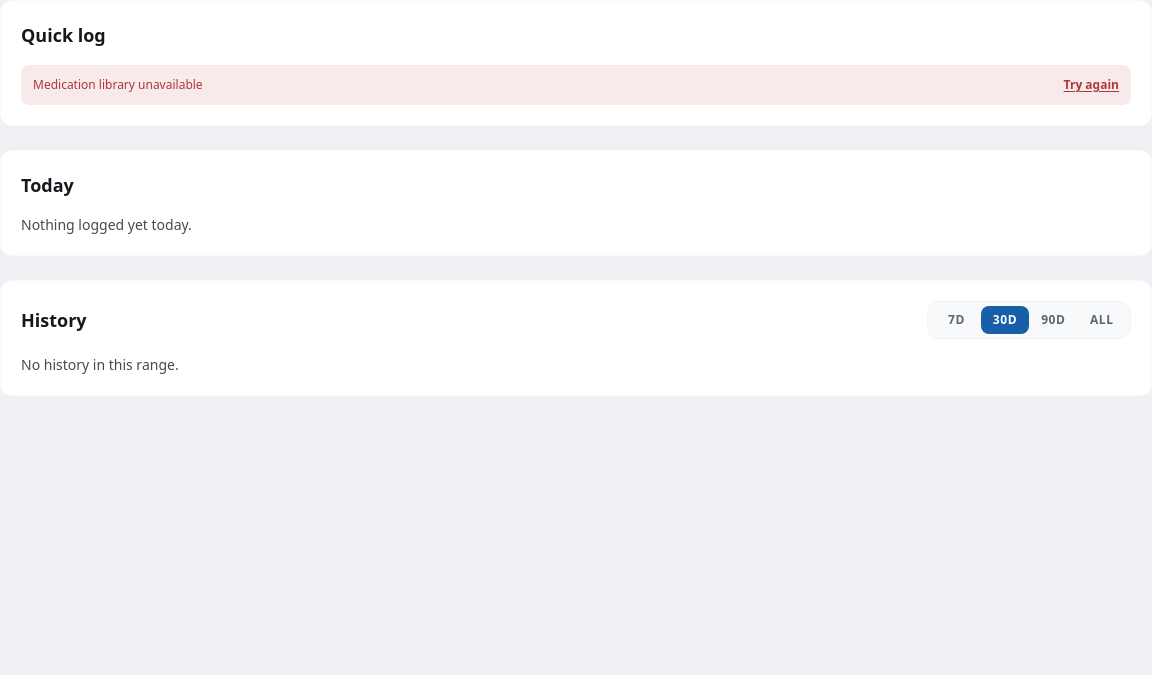
it: shared intake logging workflow › retries item loading without taking down intake history
Expected: the message shows "Medication library unavailable", 33,76 -> 203,93
What coordinates should you click on to do the following:
click the button with aria-label "Retry loading medications"
I would click on:
 (1091, 85)
Its box is 1064,77 -> 1119,93.
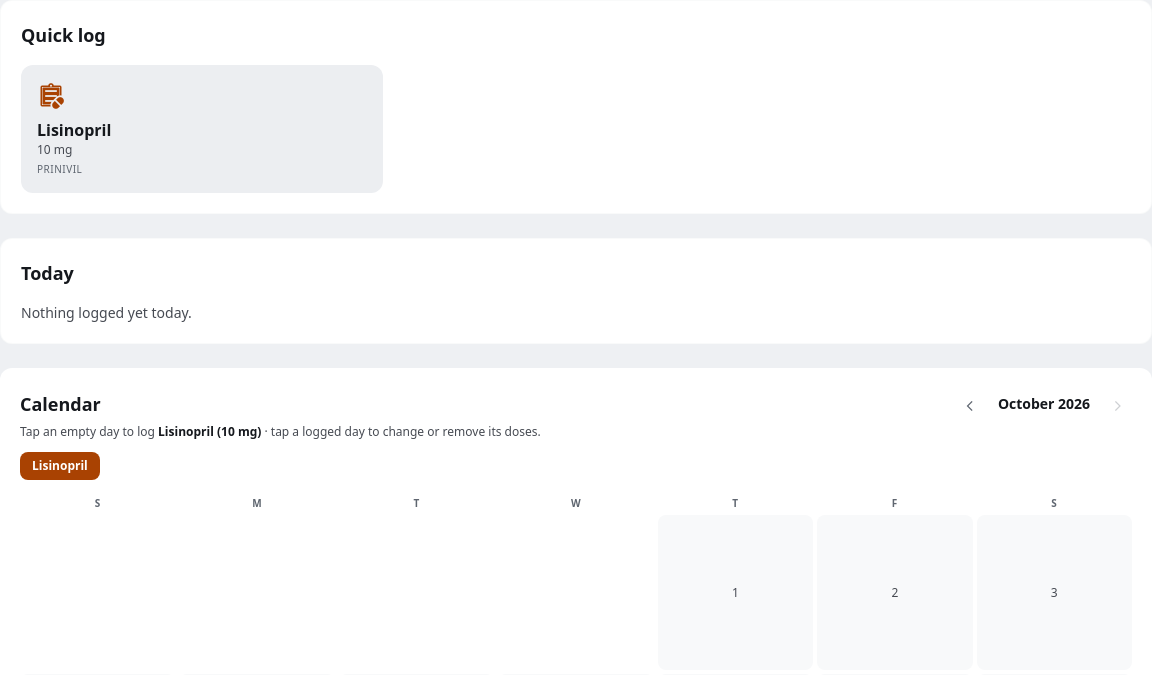
Expected: the button with aria-label "Quick log Lisinopril" is shown, 21,65 -> 383,193
